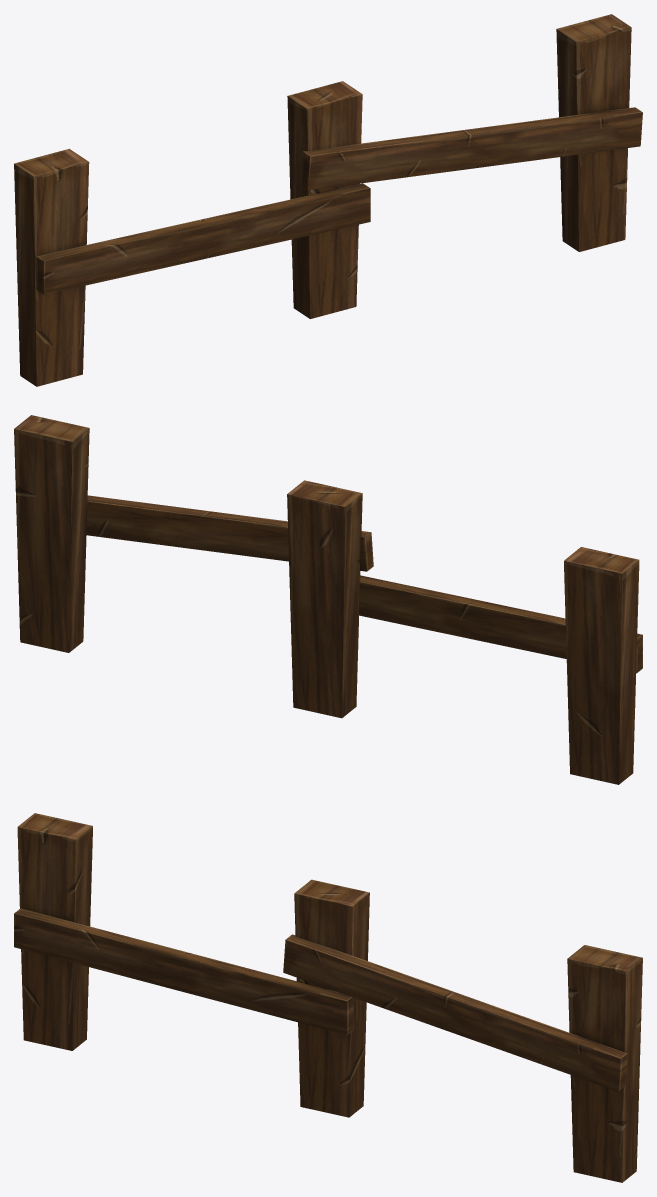
File: modelFence02.fbx
3 views of the same model, one above another, from view 1: azimuth 30°, elevation 25°; view 2: azimuth 150°, elevation 25°; view 3: azimuth 330°, elevation 25° (orthographic).
Parts seen in each view (by area): view 1: modelFence02; view 2: modelFence02; view 3: modelFence02.
Part boxes in pixels (x1,y1,x2,y2): modelFence02: [14, 14, 642, 386]; modelFence02: [14, 415, 642, 784]; modelFence02: [14, 813, 642, 1182].
Size of the model in its own units: 28.42 by 9.52 by 2.36.
